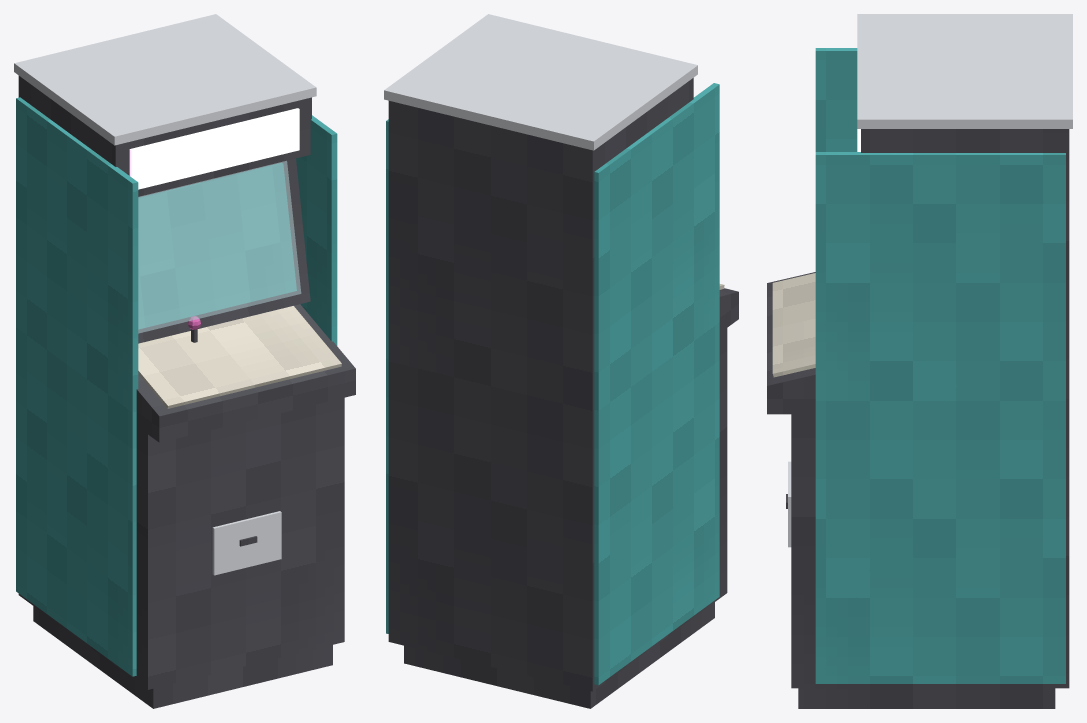
File: three-d-retro-arcade-and-mall-1989-retro-arcade-and-mall-1989-upright-cabinet-a95c6fdc.glb
3 renders of one model, left to right at view 1: azimuth 30°, elevation 25°; view 2: azimuth 150°, elevation 25°; view 3: azimuth 270°, elevation 25°, orthographic. The views are drawn at different scales.
Parts seen in each view (by area): view 1: upright-cabinet; view 2: upright-cabinet; view 3: upright-cabinet.
Part boxes in pixels (bbox=[...]): upright-cabinet: bbox=[14, 14, 355, 708]; upright-cabinet: bbox=[384, 14, 738, 708]; upright-cabinet: bbox=[767, 14, 1072, 708].
Bounding box in the file's own units: 0.7299 × 1.89 × 0.88.
7 materials, 4 textured.
